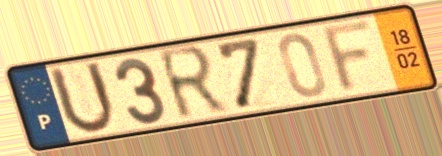0: (277, 31, 329, 100)
3: (113, 55, 168, 127)
7: (212, 37, 267, 113)
F: (319, 16, 378, 98)
R: (154, 42, 233, 126)
U: (45, 59, 119, 138)
